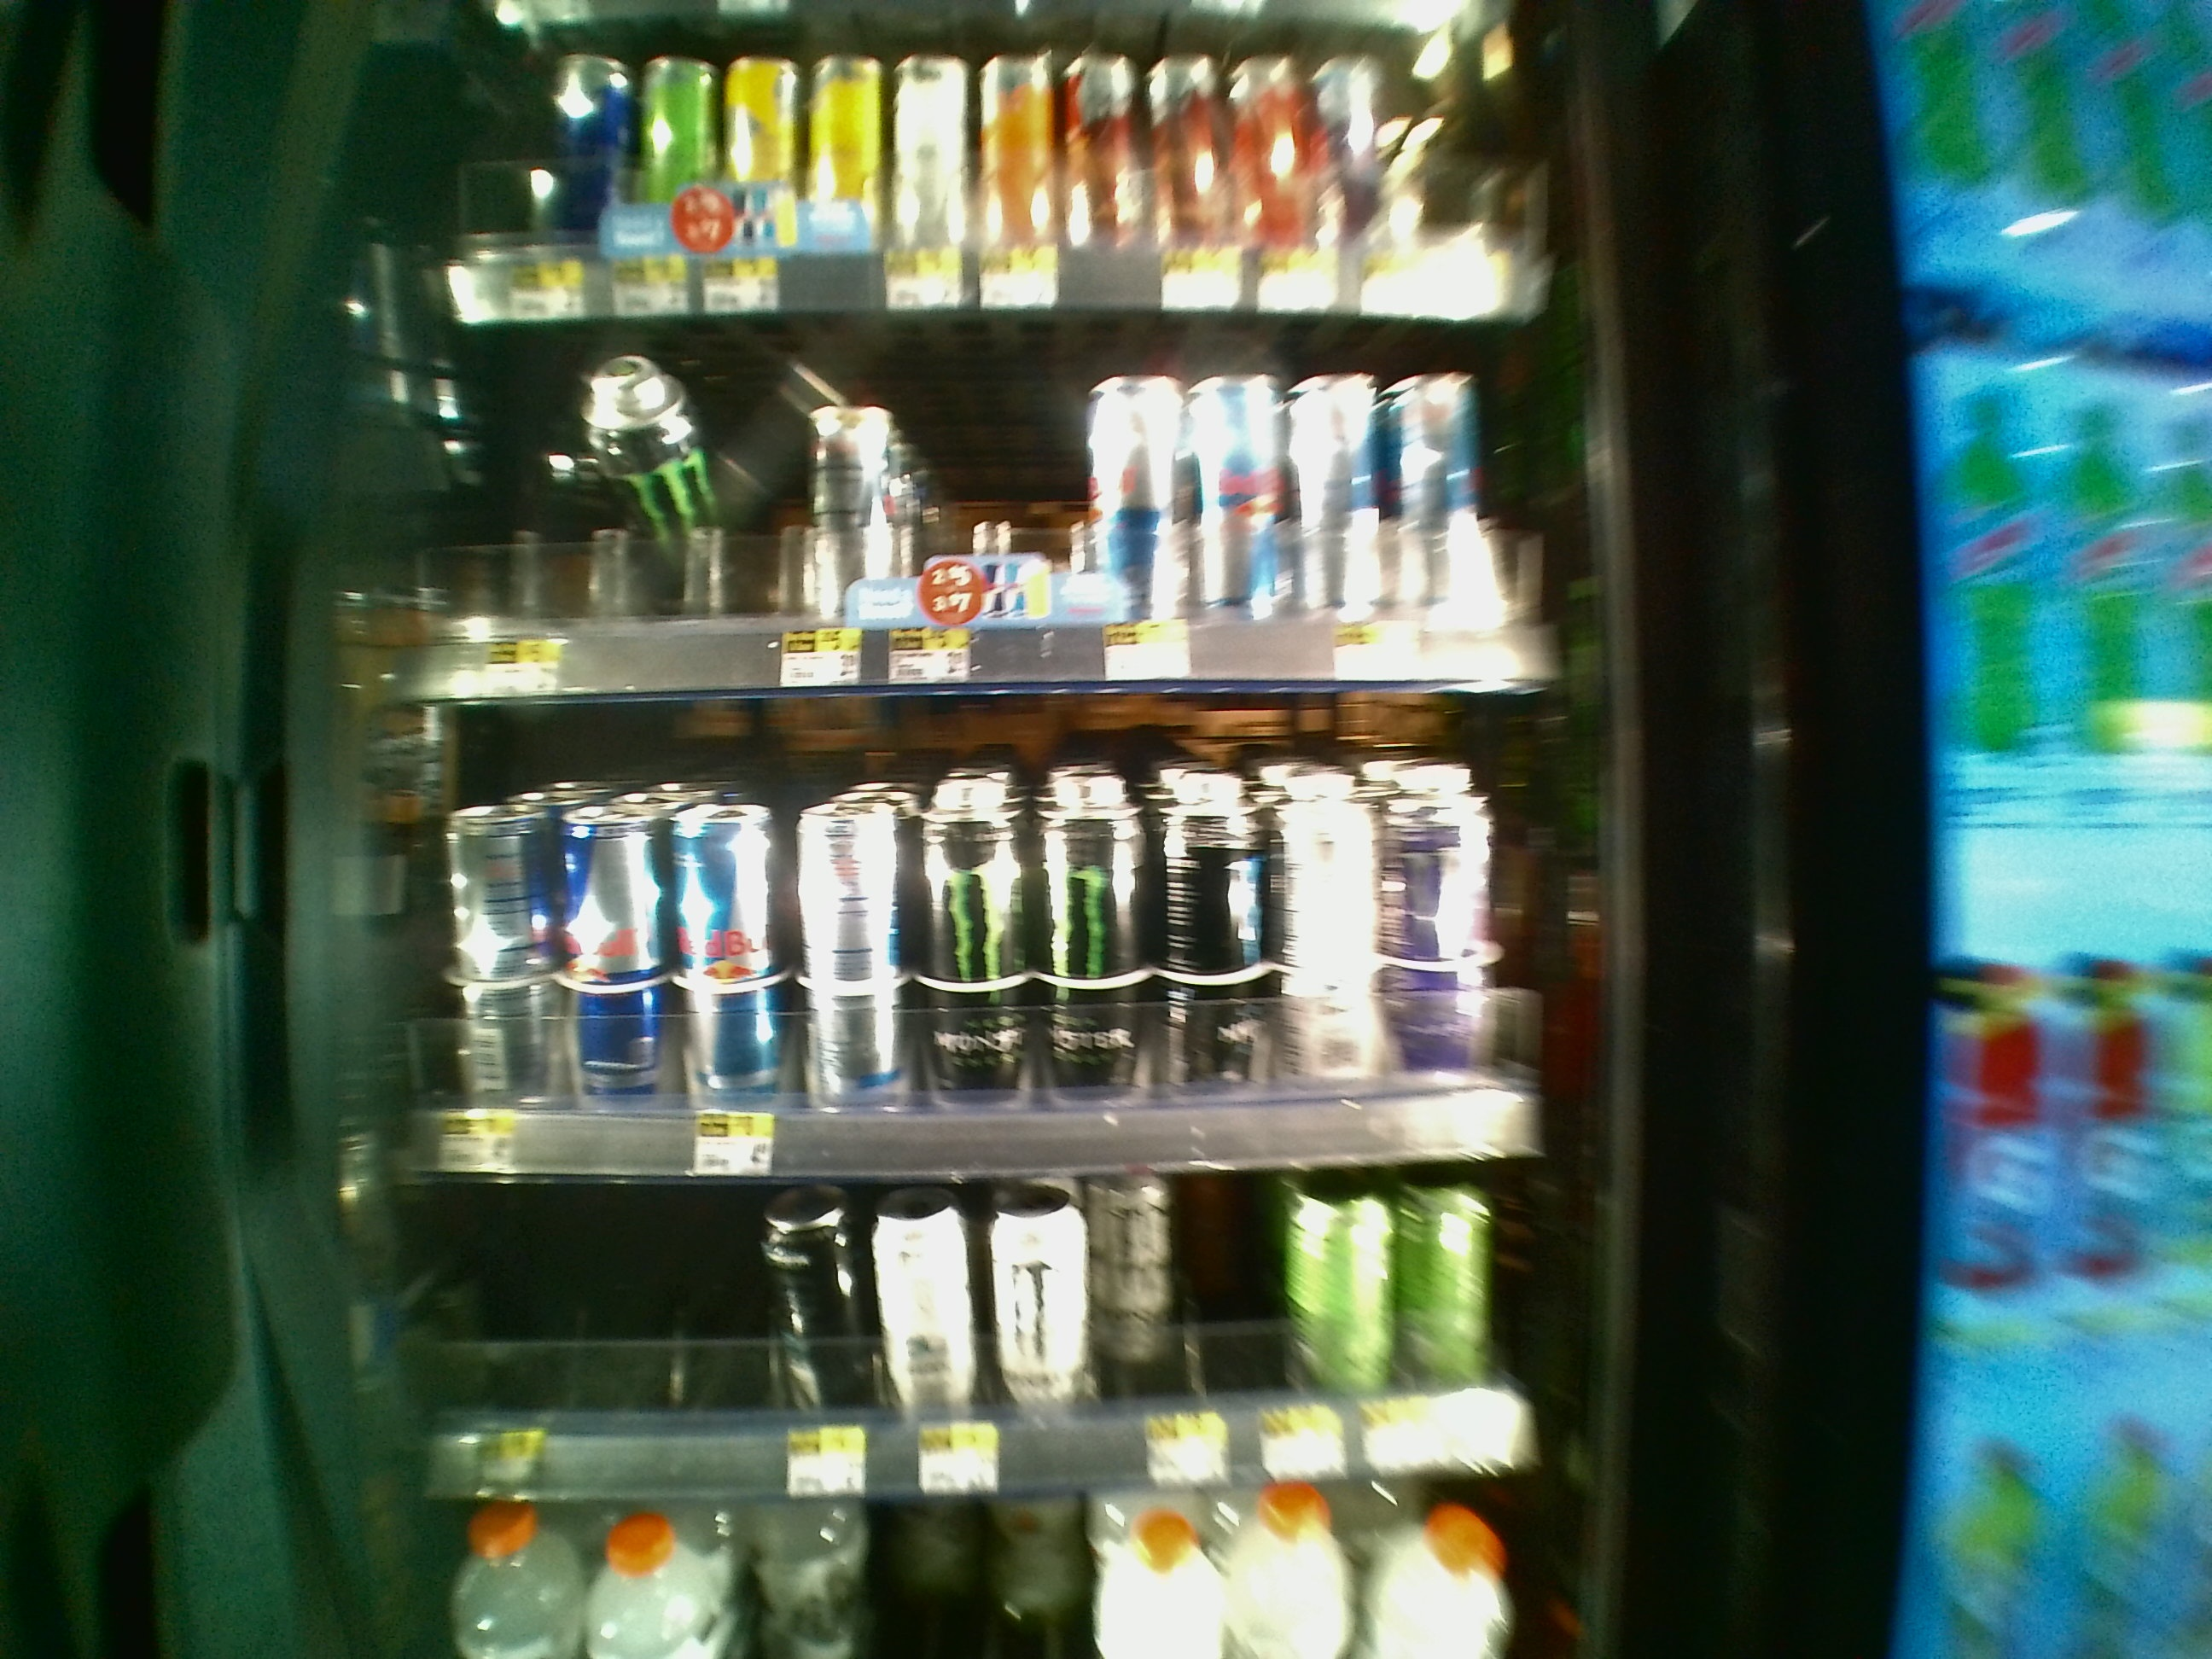shelf: (409, 697, 1620, 1176), (428, 312, 1616, 692)
